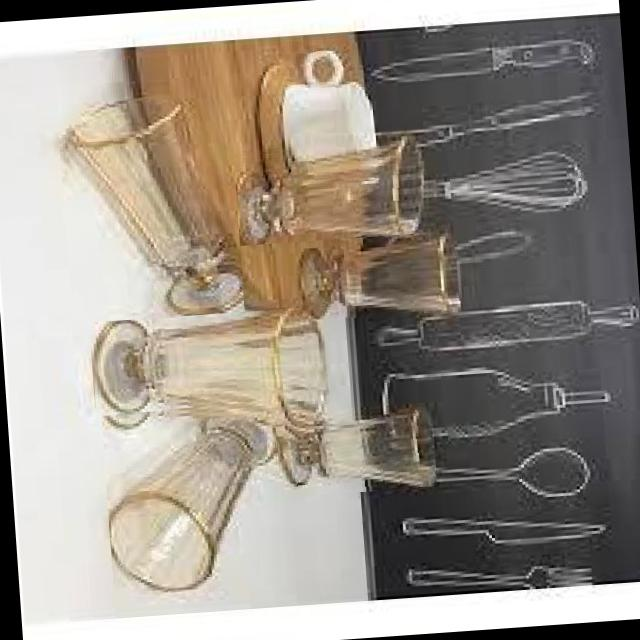Glass: (60, 92, 243, 332), (100, 399, 286, 596), (87, 306, 331, 442), (230, 136, 435, 246), (272, 402, 436, 498), (293, 232, 462, 324), (278, 48, 378, 186)
